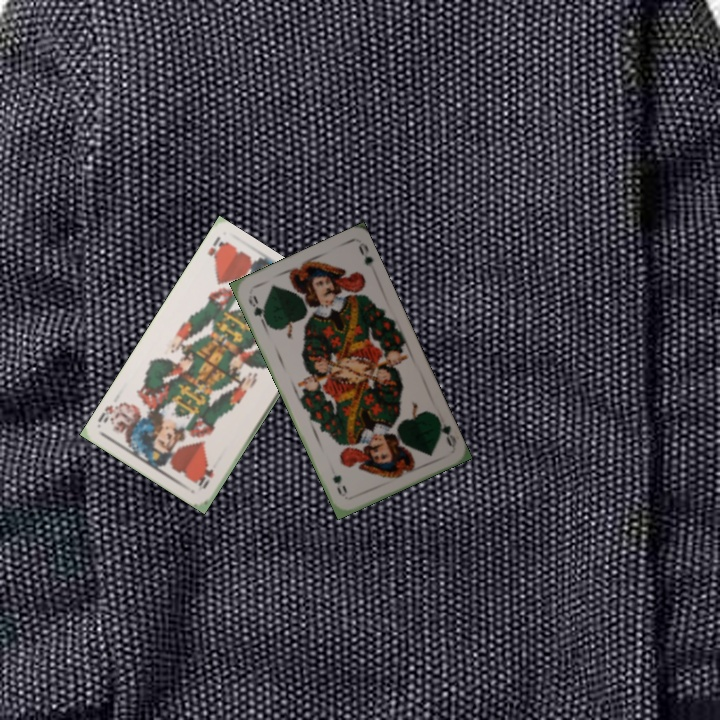GO: (431, 412, 459, 449), (244, 291, 270, 329)
HO: (203, 233, 229, 264), (194, 465, 216, 492)
